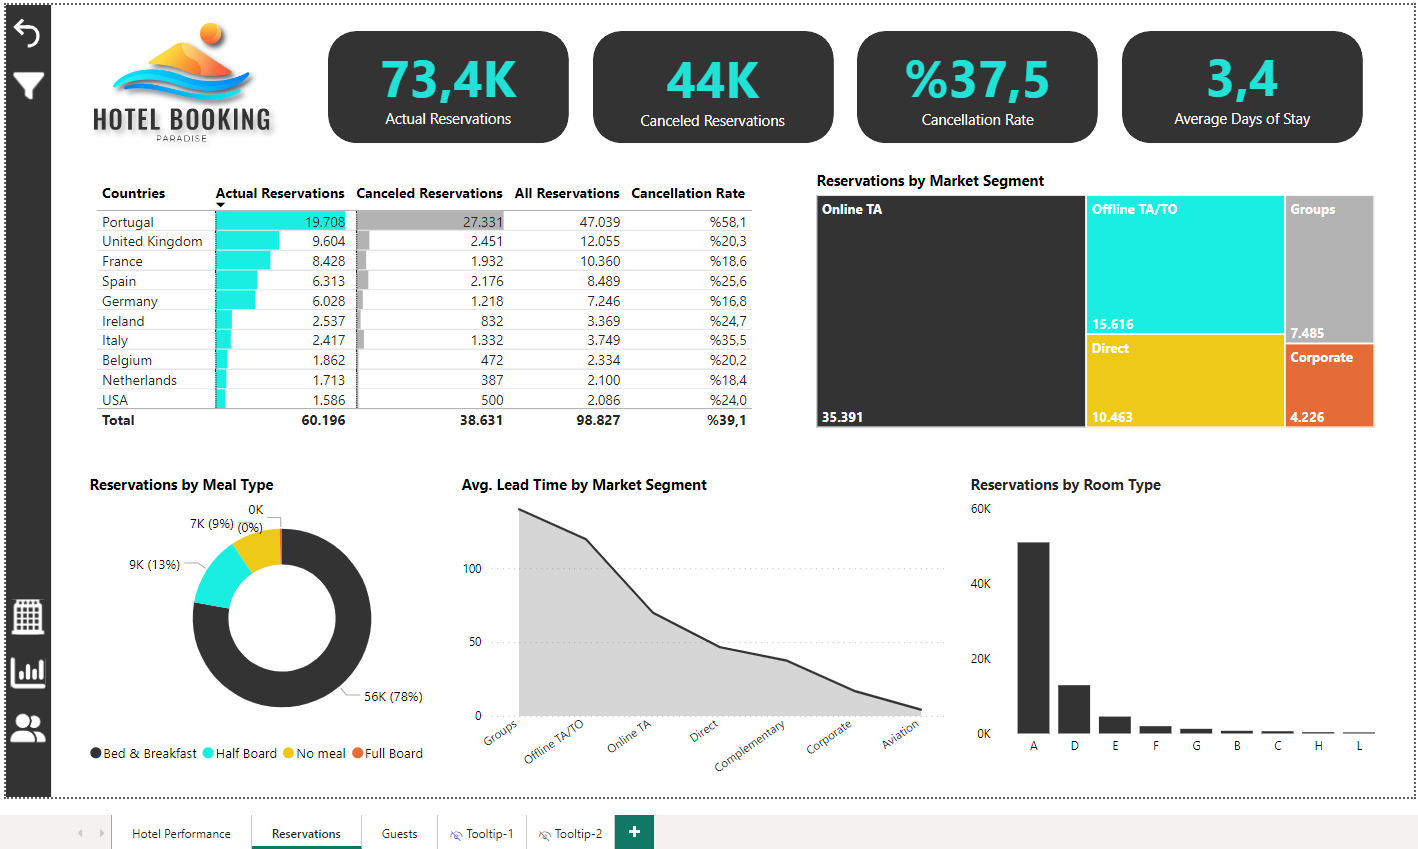

This screenshot's page, from the dashboard's own definition file:
{"tool":"powerbi","page":{"name":"Reservations","canvas":[1280,720],"ordinal":1},"visuals":[{"type":"group","id":"g1","title":"KPI Cards","box":[292.7,23.7,941,102],"z":0,"group":"g3"},{"type":"shape","box":[292.7,23.7,219,102],"z":0,"group":"g1"},{"type":"card","fields":{"Values":["Measures_Table.Actual Reservations"]},"box":[295.7,23.7,213,98],"z":0,"group":"g2"},{"type":"actionButton","box":[0,637.2,40.9,40],"z":0,"group":"g4"},{"type":"shape","title":"Left Nav Background","box":[0,0,41,720],"z":1000},{"type":"group","id":"g2","title":"KPI Values","box":[295.7,23.7,935,99],"z":1000,"group":"g3"},{"type":"shape","box":[533.4,23.7,219,102],"z":1000,"group":"g1"},{"type":"card","fields":{"Values":["Measures_Table.Cancelled Reservations"]},"box":[536.7,25.7,212,97],"z":1000,"group":"g2"},{"type":"actionButton","box":[0,536,41,40],"z":1000,"group":"g4"},{"type":"group","id":"g3","title":"KPIs","box":[292.7,23.7,941,102],"z":2000},{"type":"shape","box":[774,23.7,219,102],"z":2000,"group":"g1"},{"type":"card","fields":{"Values":["Measures_Table.Average Days of Stay"]},"box":[1017.7,23.7,213,97],"z":2000,"group":"g2"},{"type":"actionButton","box":[0,586.6,40.9,40],"z":2000,"group":"g4"},{"type":"shape","box":[1014.7,23.7,219,102],"z":3000,"group":"g1"},{"type":"card","fields":{"Values":["Measures_Table.Cancellation Rate"]},"box":[777,25,214,97],"z":3000,"group":"g2"},{"type":"group","id":"g4","title":"Navigation Buttons","box":[0,536,41,141.2],"z":4000},{"type":"image","box":[59,7,207,135],"z":6000},{"type":"columnChart","title":"Reservations by Room Type","fields":{"Category":["hotel_bookings.reserved_room_type"],"Y":["Measures_Table.Actual Reservations"]},"box":[872,427,393,264],"z":8000},{"type":"treemap","title":"Reservations by Market Segment","fields":{"Values":["Measures_Table.Actual Reservations"],"Group":["hotel_bookings.market_segment"]},"box":[732,151,517,238],"z":9000},{"type":"donutChart","title":"Reservations by Meal Type","fields":{"Y":["Measures_Table.Actual Reservations"],"Category":["hotel_bookings.meal_type"]},"box":[71,427,360,271],"z":10000},{"type":"areaChart","title":"Avg. Lead Time by Market Segment","fields":{"Category":["hotel_bookings.market_segment"],"Y":["Measures_Table.Avg. Lead Time"]},"box":[409,427,452,285],"z":11000},{"type":"tableEx","title":"Top 10 Countries","fields":{"Values":["hotel_bookings.country_name","Measures_Table.Actual Reservations","Measures_Table.Cancelled Reservations","Measures_Table.All Reservations","Measures_Table.Cancellation Rate"]},"box":[76,156,617,240],"z":12000},{"type":"actionButton","box":[3,55,39,36],"z":13000},{"type":"actionButton","box":[0.5,7,41,36],"z":14000}]}

Visuals, with their boxes on the page's 1280x720 design canvas (x1, y1, x2, y2). These are canvas units, not pixel positions in the 1418x849 screenshot, which may show the page scaled, cropped or inside an application window:
"KPI Cards" group: (x1=293, y1=24, x2=1234, y2=126)
shape: (x1=293, y1=24, x2=512, y2=126)
card - Measures_Table.Actual Reservations: (x1=296, y1=24, x2=509, y2=122)
actionButton: (x1=0, y1=637, x2=41, y2=677)
"Left Nav Background" shape: (x1=0, y1=0, x2=41, y2=720)
"KPI Values" group: (x1=296, y1=24, x2=1231, y2=123)
shape: (x1=533, y1=24, x2=752, y2=126)
card - Measures_Table.Cancelled Reservations: (x1=537, y1=26, x2=749, y2=123)
actionButton: (x1=0, y1=536, x2=41, y2=576)
"KPIs" group: (x1=293, y1=24, x2=1234, y2=126)
shape: (x1=774, y1=24, x2=993, y2=126)
card - Measures_Table.Average Days of Stay: (x1=1018, y1=24, x2=1231, y2=121)
actionButton: (x1=0, y1=587, x2=41, y2=627)
shape: (x1=1015, y1=24, x2=1234, y2=126)
card - Measures_Table.Cancellation Rate: (x1=777, y1=25, x2=991, y2=122)
"Navigation Buttons" group: (x1=0, y1=536, x2=41, y2=677)
image: (x1=59, y1=7, x2=266, y2=142)
"Reservations by Room Type" columnChart: (x1=872, y1=427, x2=1265, y2=691)
"Reservations by Market Segment" treemap: (x1=732, y1=151, x2=1249, y2=389)
"Reservations by Meal Type" donutChart: (x1=71, y1=427, x2=431, y2=698)
"Avg. Lead Time by Market Segment" areaChart: (x1=409, y1=427, x2=861, y2=712)
"Top 10 Countries" tableEx: (x1=76, y1=156, x2=693, y2=396)
actionButton: (x1=3, y1=55, x2=42, y2=91)
actionButton: (x1=0, y1=7, x2=42, y2=43)
